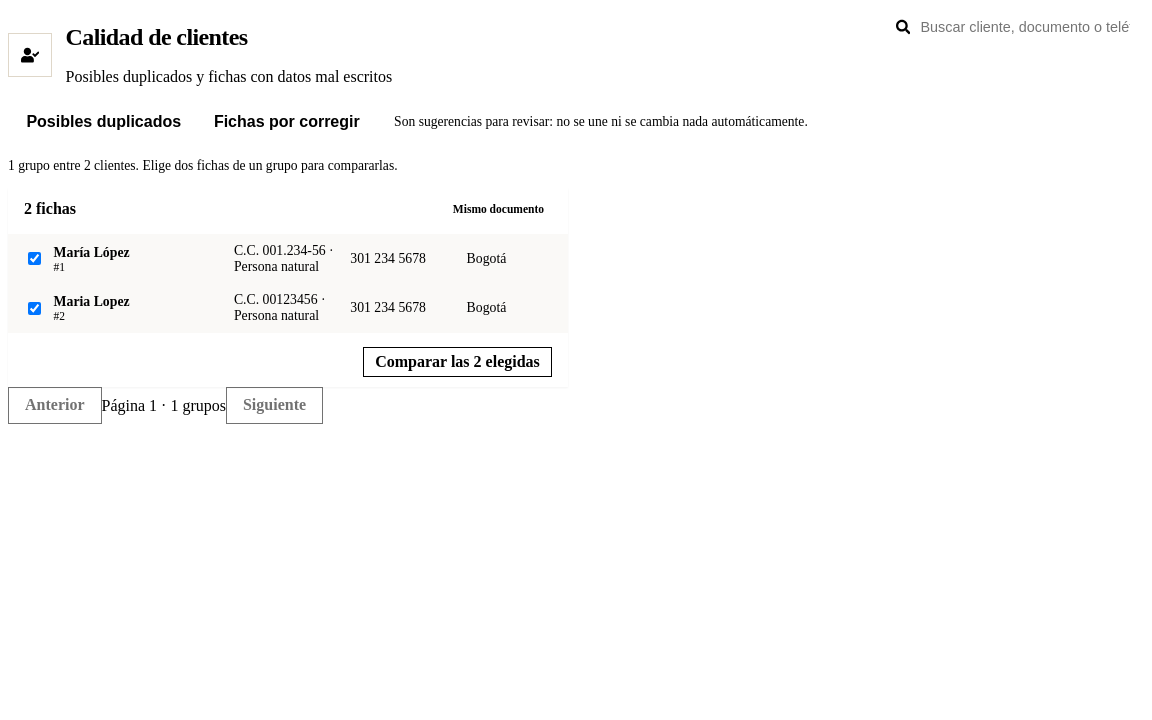
Test: Calidad de clientes (pestaña de Bases de datos) › fichas por corregir: solo las que tienen cambios y guarda únicamente lo elegido
This screenshot has width=1152, height=720.
Step 1. Click the tab "Fichas por corregir" → (287, 122), box [200, 106, 374, 138]
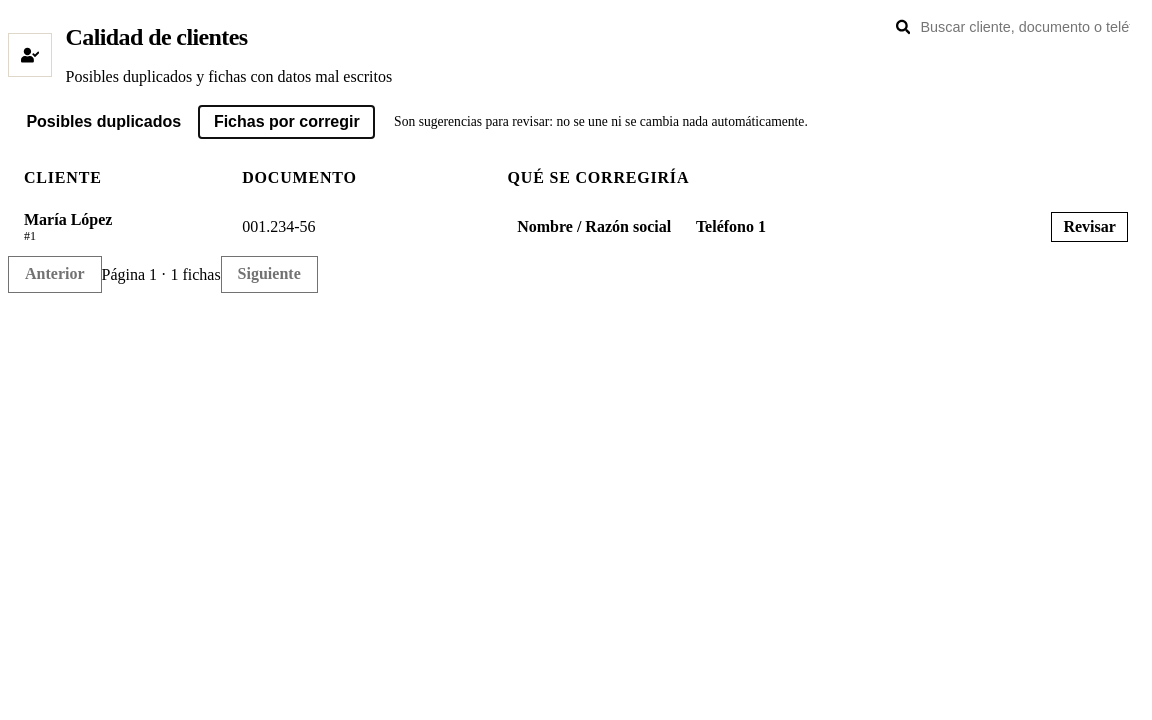
Step 2. Click the button with aria-label "Revisar cliente 1" → (1090, 227), box [1051, 212, 1128, 242]
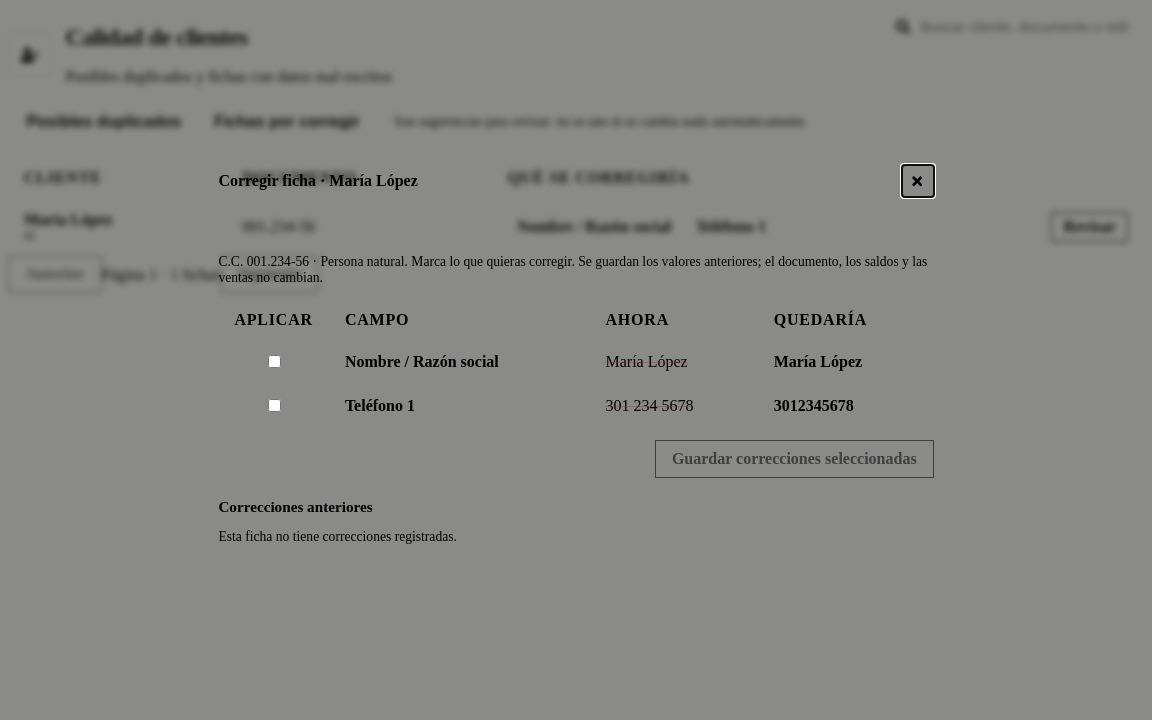
Result: the checkbox named "Corregir Teléfono 1" is shown
Result: the button "Guardar correcciones seleccionadas" is disabled at [655, 440, 934, 478]
Step 3. Click the checkbox named "Corregir Teléfono 1" → (274, 406), box [268, 400, 281, 412]
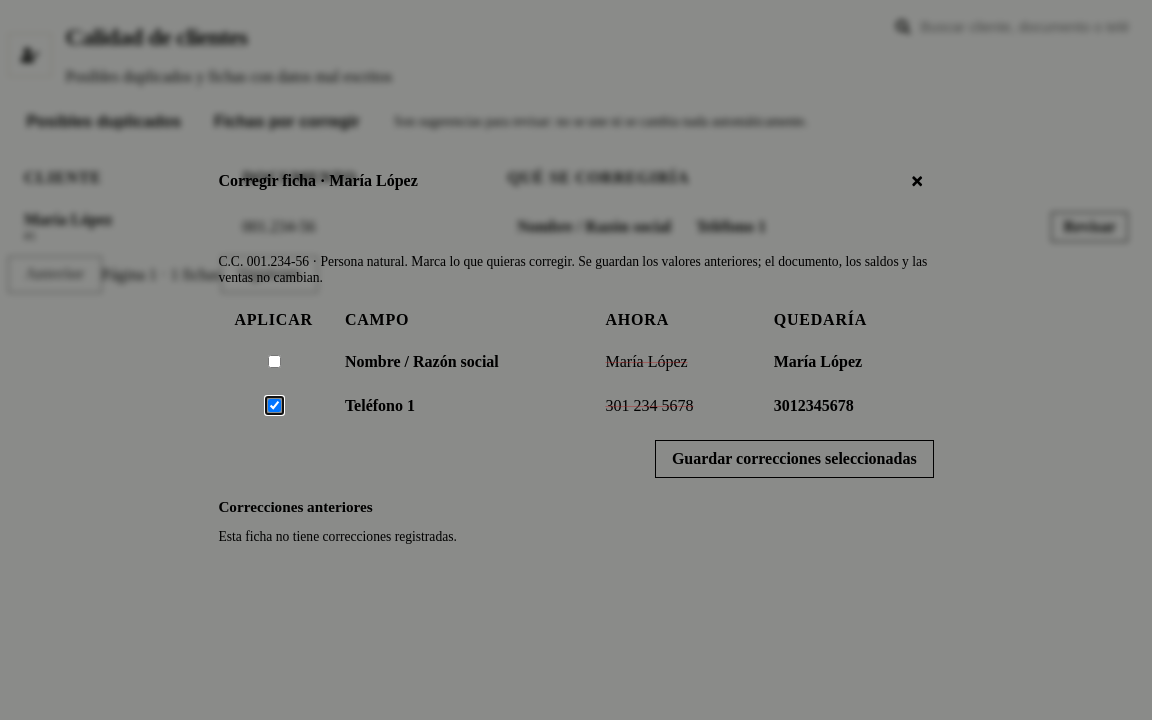
Step 4. Click the button "Guardar correcciones seleccionadas" → (794, 459), box [655, 440, 934, 478]
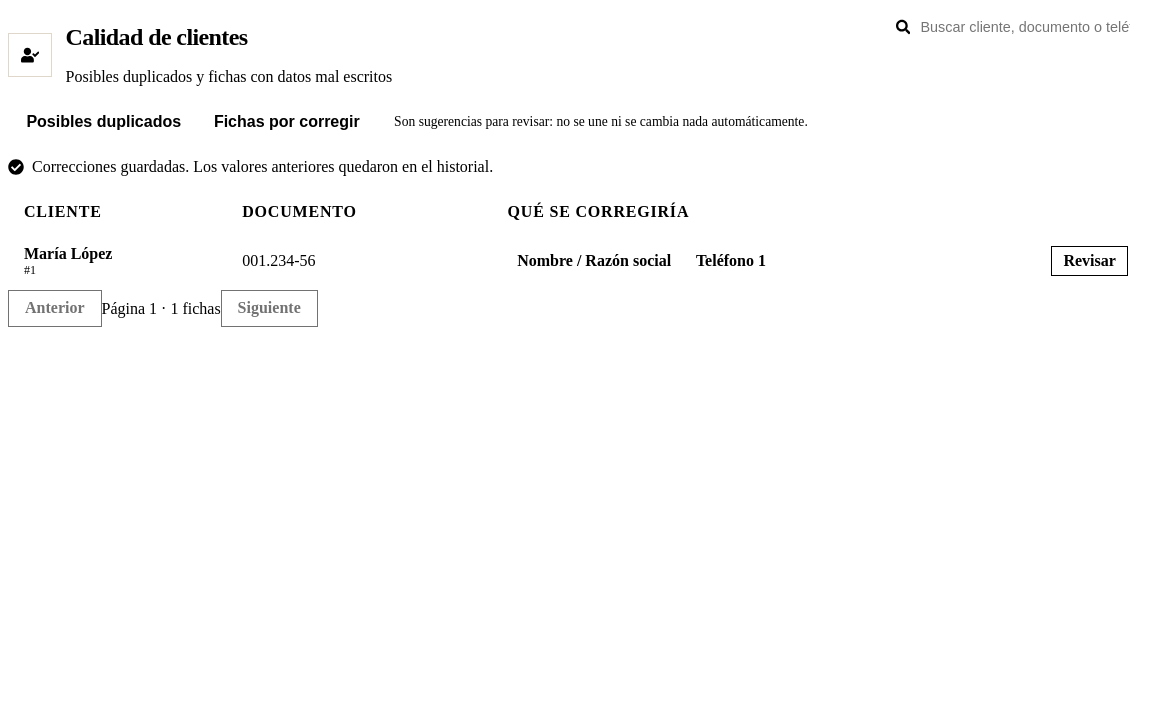
Result: the text "Correcciones guardadas. Los valores anteriores quedaron en el historial." is shown at [8, 158, 493, 175]
